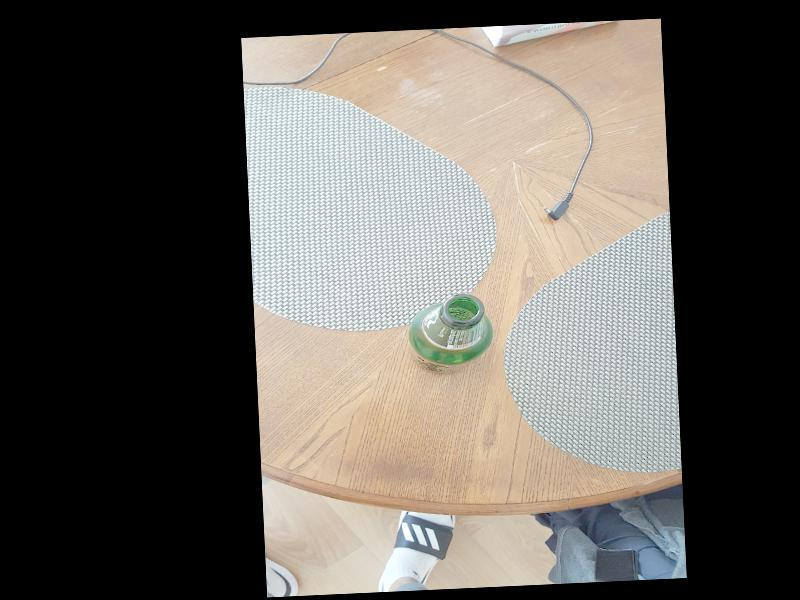Beer: (407, 292, 495, 375)
